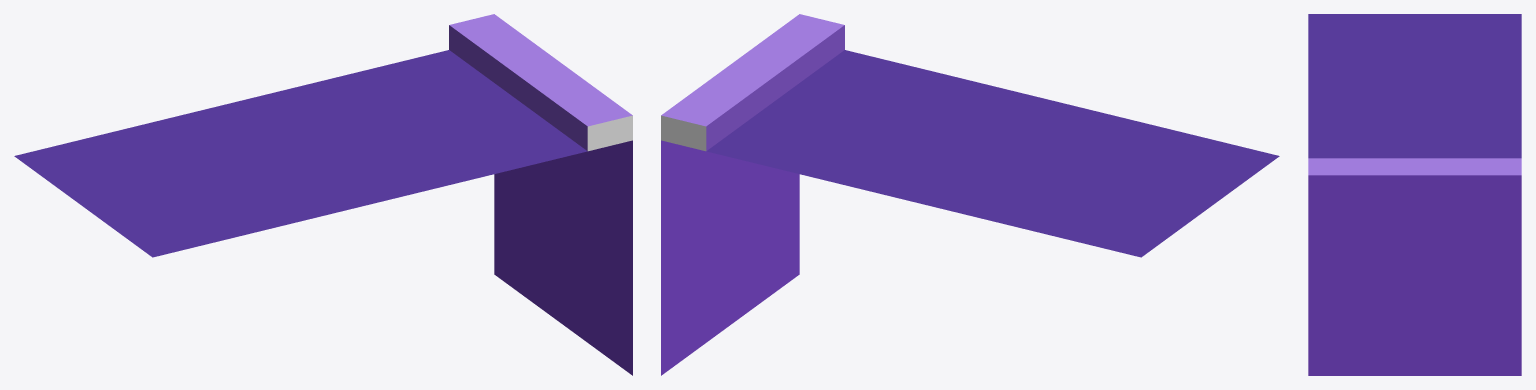
File: braeakoutsidepieceblend.fbx
The picture shows the model from 3 angles, left to right: view 1: azimuth 30°, elevation 25°; view 2: azimuth 150°, elevation 25°; view 3: azimuth 270°, elevation 25°; orthographic projection. The views are drawn at different scales.
Parts seen in each view (by area): view 1: middle_border_piece; view 2: middle_border_piece; view 3: middle_border_piece.
Part boxes in pixels (box(x1,y1,x2,y2)): middle_border_piece: box(14, 14, 632, 375); middle_border_piece: box(661, 14, 1279, 375); middle_border_piece: box(1308, 14, 1521, 375).
Bounding box in the file's own units: 200 × 104 × 100.
